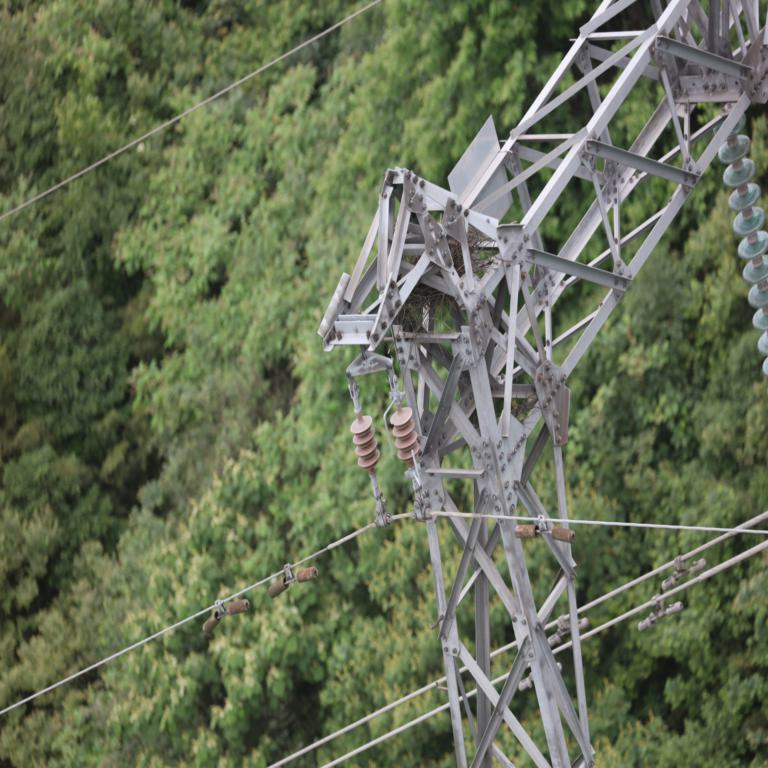nest: (392, 220, 480, 351)
